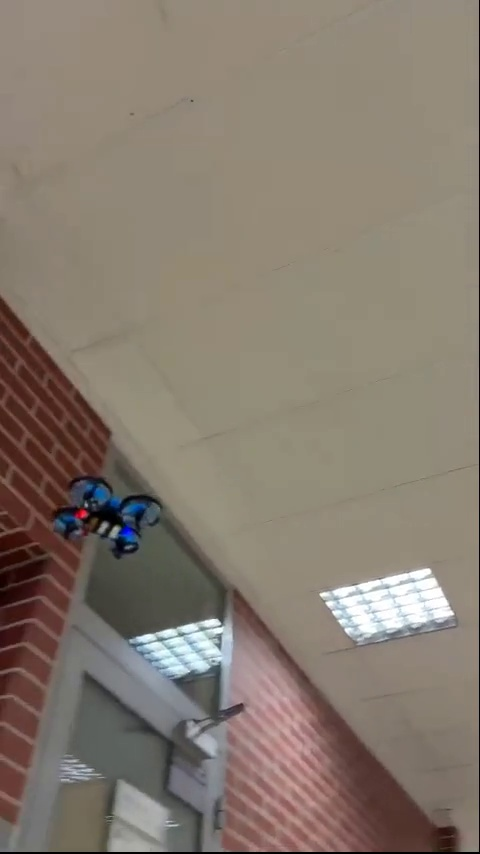drone: (53, 469, 164, 559)
